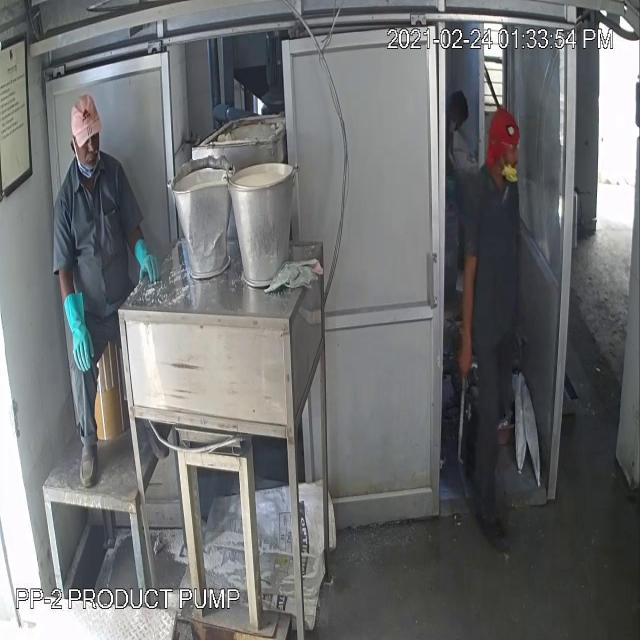no-helmet: (65, 83, 107, 157), (486, 100, 520, 163)
